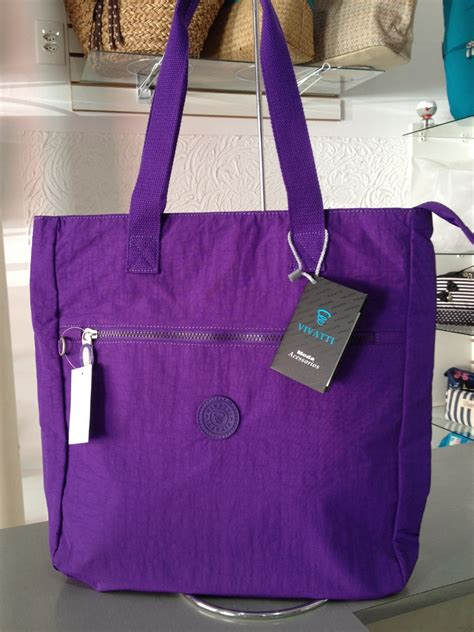nylon: (30, 209, 446, 600)
